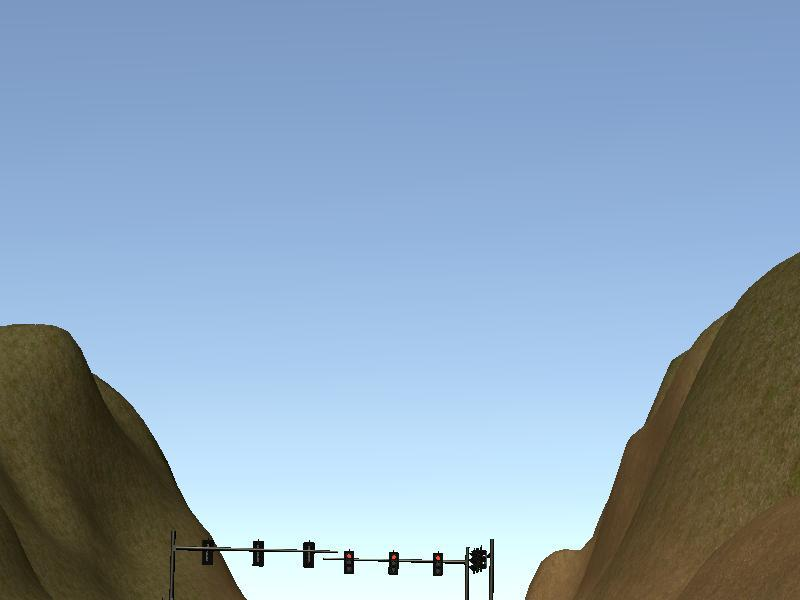Red: (431, 551, 444, 577), (389, 550, 399, 575), (344, 552, 354, 574)
